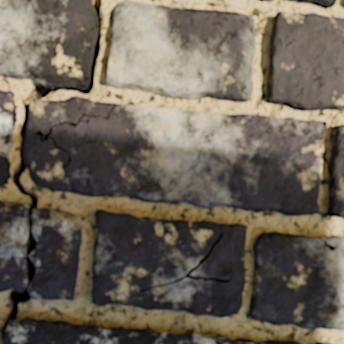brick: (23, 97, 326, 214), (92, 210, 246, 316), (106, 2, 254, 101), (250, 232, 343, 328), (0, 0, 95, 84), (4, 318, 299, 343), (268, 12, 343, 110), (0, 90, 16, 184), (327, 125, 343, 216), (289, 0, 335, 7)
broken_brick: (29, 207, 82, 300), (0, 200, 28, 292)
crack: (0, 0, 103, 343), (34, 103, 116, 168), (314, 236, 337, 251)
